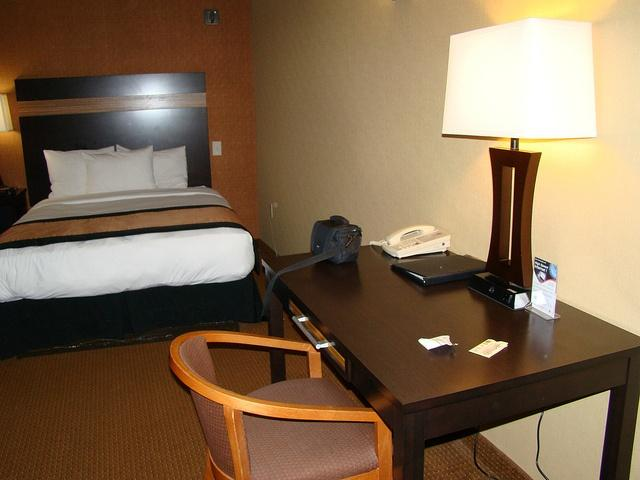Meja: (260, 238, 639, 479)
